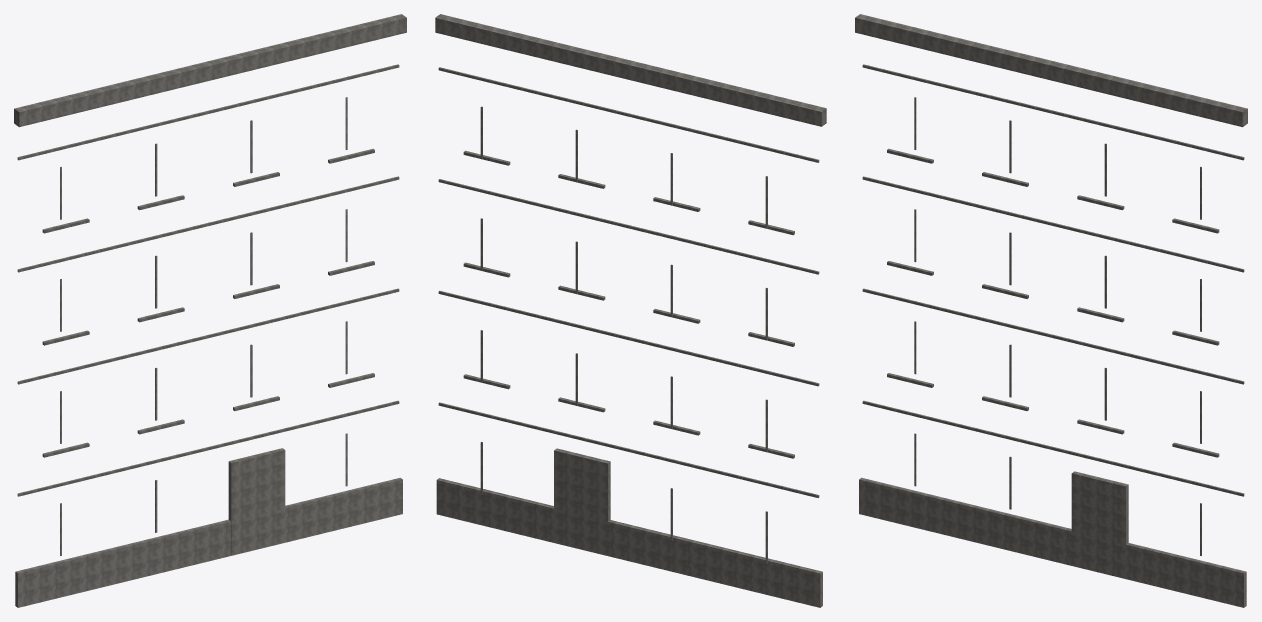
Rendered from Street_BlockL3_Trim.obj.
The picture shows the model from 3 angles, left to right: view 1: azimuth 30°, elevation 25°; view 2: azimuth 150°, elevation 25°; view 3: azimuth 330°, elevation 25°; orthographic projection.
Bounding box in the file's own units: 11.4 × 13.99 × 0.485.
Materials: 1 (1 with a texture image).
